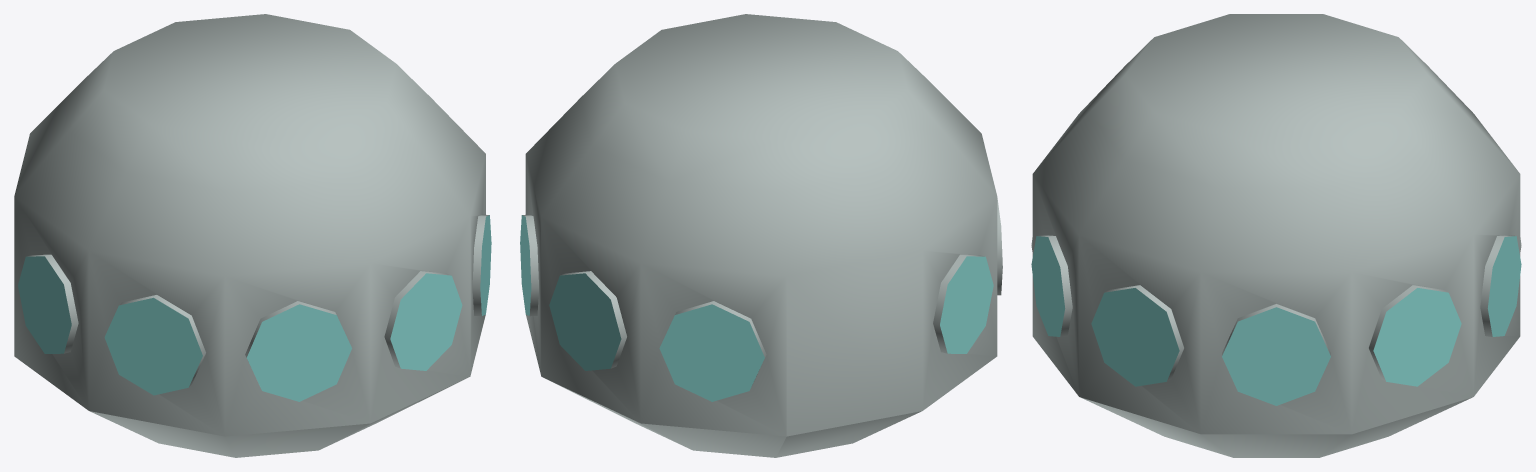
The model's file is Shuttle_Interior 2.fbx.
3 renders of one model, left to right at view 1: azimuth 30°, elevation 25°; view 2: azimuth 150°, elevation 25°; view 3: azimuth 270°, elevation 25°, orthographic.
Visible parts, largest first — view 1: Shuttle.001; view 2: Shuttle.001; view 3: Shuttle.001.
Boxes of the visible parts, bbox=[...] form: Shuttle.001: bbox=[14, 14, 491, 457]; Shuttle.001: bbox=[520, 14, 1002, 457]; Shuttle.001: bbox=[1031, 14, 1521, 457].
Size of the model in its own units: 355 by 269 by 363.
